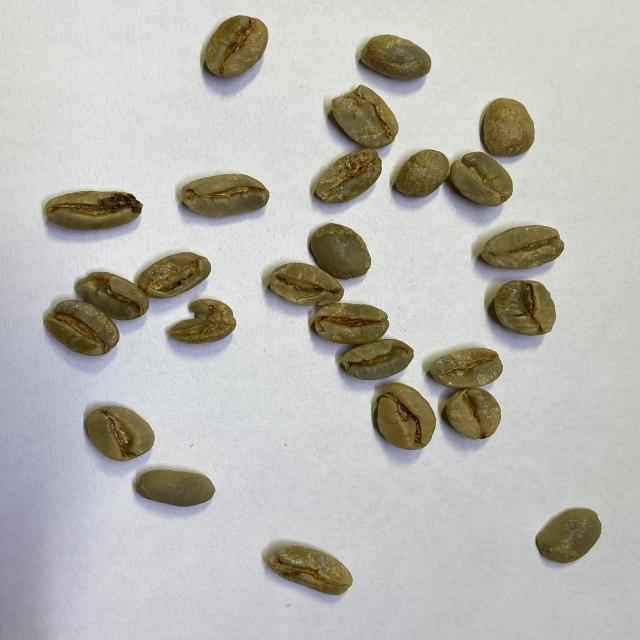bad: (330, 86, 399, 150), (269, 545, 353, 596), (376, 382, 436, 451), (45, 190, 143, 231), (315, 149, 382, 204), (494, 280, 557, 338), (76, 272, 149, 321), (268, 262, 344, 306), (138, 252, 211, 297), (168, 299, 238, 344), (340, 338, 414, 380), (316, 303, 390, 344), (432, 348, 504, 388)
good: (45, 299, 120, 357), (204, 14, 269, 80), (534, 507, 603, 565), (179, 173, 268, 217), (85, 407, 156, 462), (481, 225, 564, 268), (450, 152, 513, 208), (359, 34, 432, 82), (310, 223, 372, 279), (481, 97, 535, 159), (136, 469, 215, 507), (446, 388, 502, 439), (395, 150, 449, 198)
